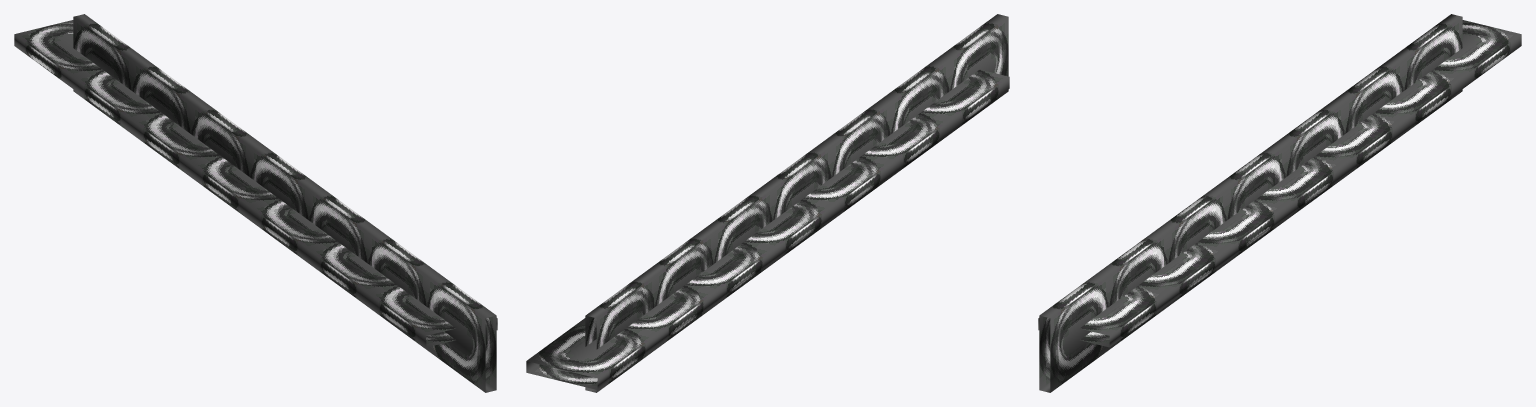
File: INST_SWORDLIGHT_CHAINC1M.fbx
3 views of the same model, side by side, from view 1: azimuth 30°, elevation 25°; view 2: azimuth 150°, elevation 25°; view 3: azimuth 330°, elevation 25° (orthographic).
Parts seen in each view (by area): view 1: INST_SWORDLIGHT_CHAINC1M; view 2: INST_SWORDLIGHT_CHAINC1M; view 3: INST_SWORDLIGHT_CHAINC1M.
Boxes of the visible parts, x1,y1,x2,y2 form: INST_SWORDLIGHT_CHAINC1M: (14,14,497,392); INST_SWORDLIGHT_CHAINC1M: (526,14,1009,392); INST_SWORDLIGHT_CHAINC1M: (1038,14,1521,392).
Size of the model in its own units: 1000 by 1000 by 10706.
Materials: 1 (1 with a texture image).
